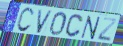C: (15, 7, 35, 34), (64, 14, 84, 39)
N: (80, 15, 102, 41)
O: (49, 12, 67, 37)
V: (36, 9, 54, 35)
Z: (96, 17, 118, 43)
